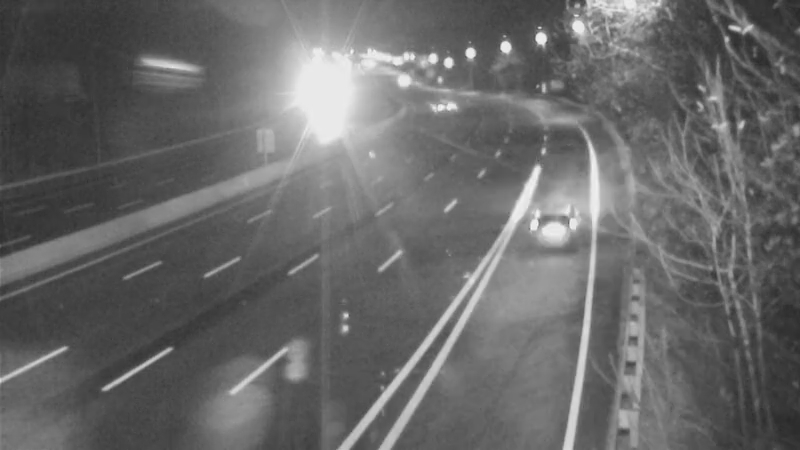vehicle: (518, 180, 598, 260), (371, 53, 421, 103), (411, 76, 461, 126), (295, 75, 345, 125)
